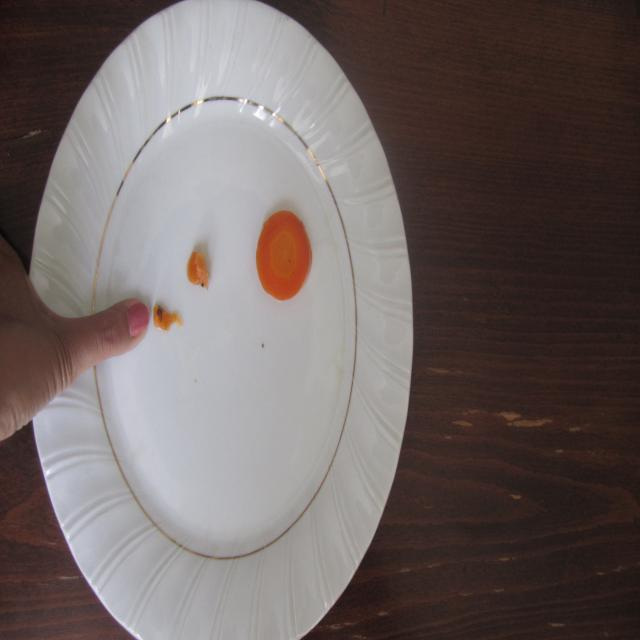Carrot: (248, 206, 319, 303)
Finger: (92, 294, 154, 362)
